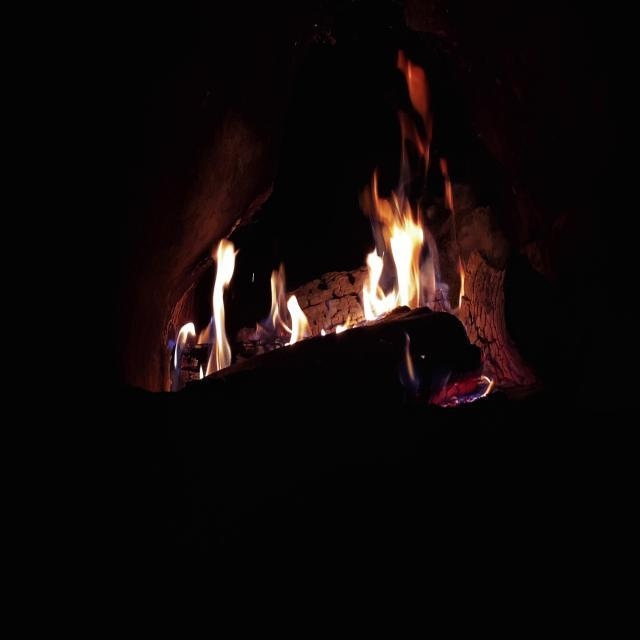Fire: (353, 166, 436, 320), (168, 246, 236, 381), (254, 256, 309, 346)
